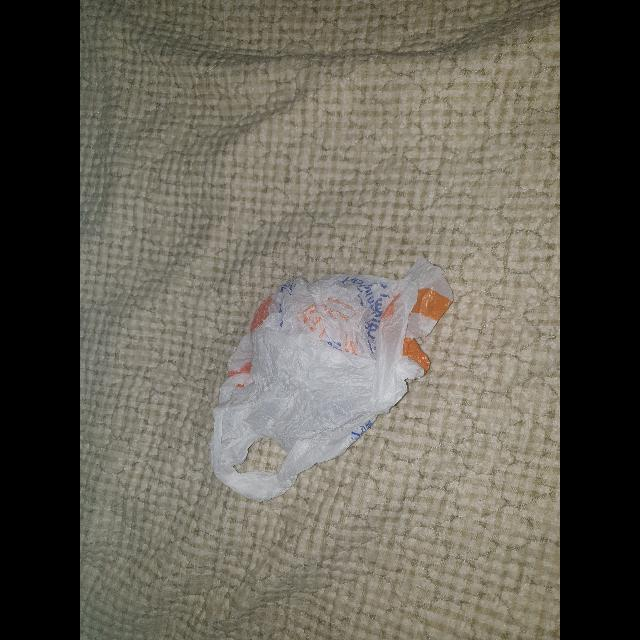plastic_bag: (203, 247, 463, 509)
